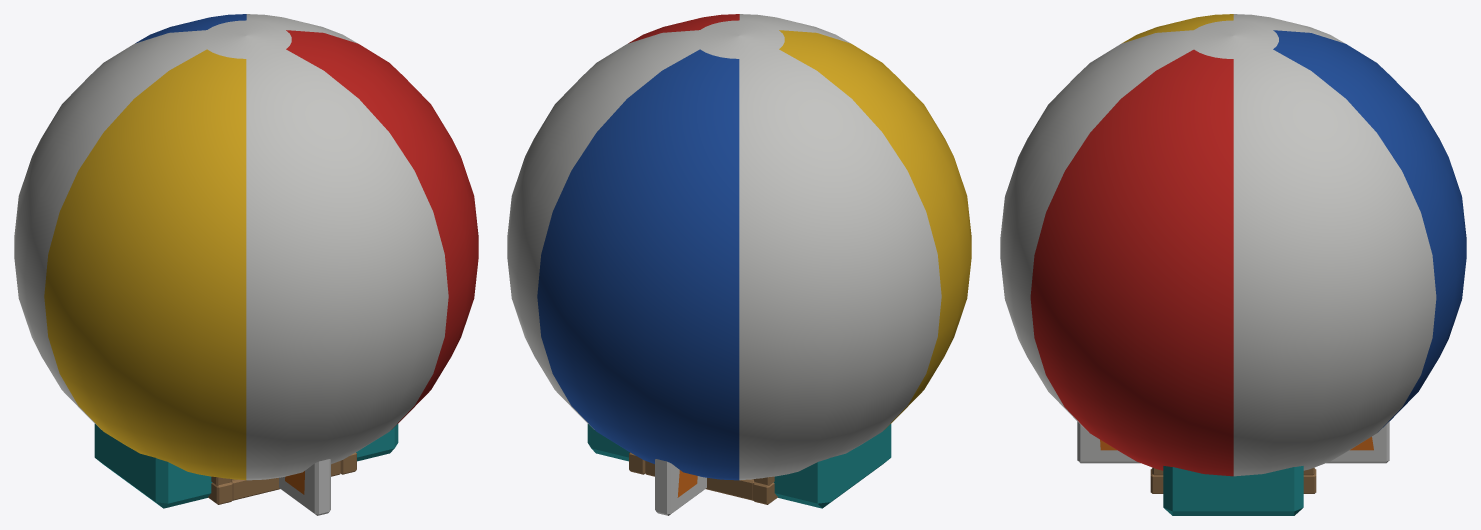
File: dyn.glb
3 renders of one model, left to right at view 1: azimuth 30°, elevation 25°; view 2: azimuth 150°, elevation 25°; view 3: azimuth 270°, elevation 25°, orthographic.
Parts seen in each view (by area): view 1: Ball, FoamT, Panel, Crate; view 2: Ball, FoamT, Panel, Crate; view 3: Ball, FoamT, Panel, Crate.
Boxes of the visible parts, box(x1,y1,x2,y2) form: Ball: box(14, 14, 478, 480); FoamT: box(94, 424, 398, 508); Panel: box(279, 459, 330, 515); Crate: box(208, 452, 356, 504); Ball: box(507, 14, 971, 480); FoamT: box(587, 424, 891, 508); Panel: box(655, 459, 706, 515); Crate: box(629, 452, 777, 504); Ball: box(1000, 14, 1466, 476); FoamT: box(1163, 466, 1303, 515); Panel: box(1077, 421, 1389, 463); Crate: box(1150, 467, 1316, 493).
Size of the model in its own units: 3 by 3 by 2.98.
